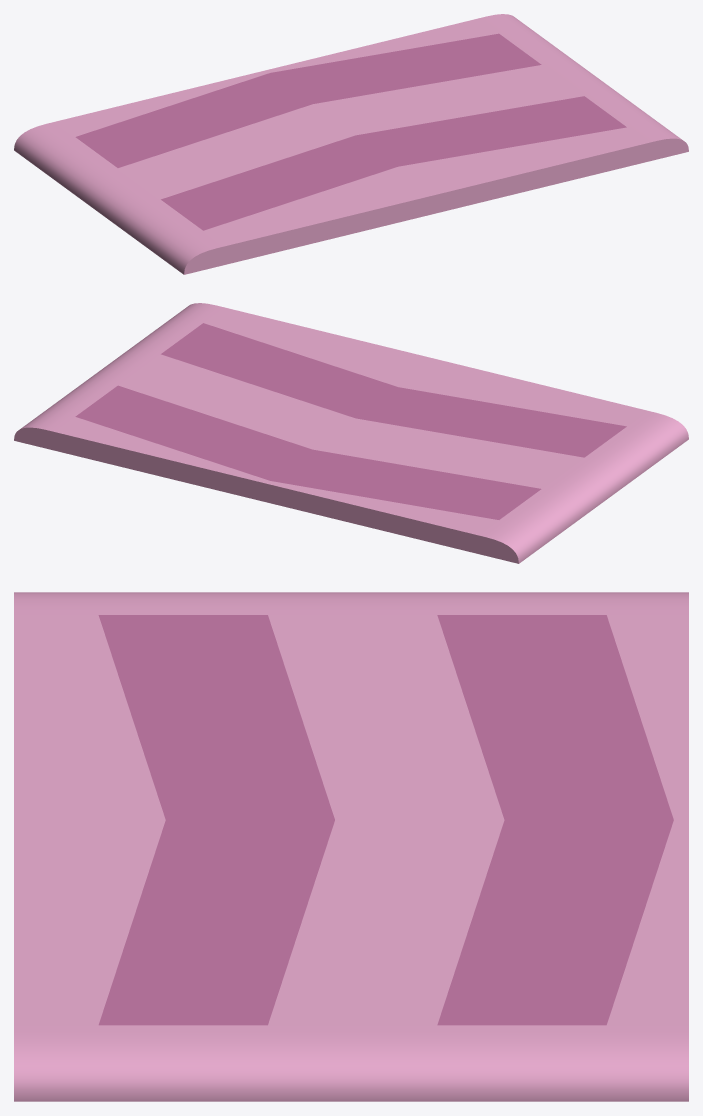
Rendered from Road_Wide.fbx.
3 views of the same model, one above another, from view 1: azimuth 30°, elevation 25°; view 2: azimuth 150°, elevation 25°; view 3: azimuth 270°, elevation 25° (orthographic). The views are drawn at different scales.
Visible parts, largest first — view 1: pasted__yol3; view 2: pasted__yol3; view 3: pasted__yol3.
Part boxes in pixels (x1=…): pasted__yol3: x1=14, y1=14, x2=688, y2=274; pasted__yol3: x1=14, y1=303, x2=688, y2=563; pasted__yol3: x1=14, y1=592, x2=688, y2=1101.
Size of the model in its own units: 183 by 6.46 by 107.
